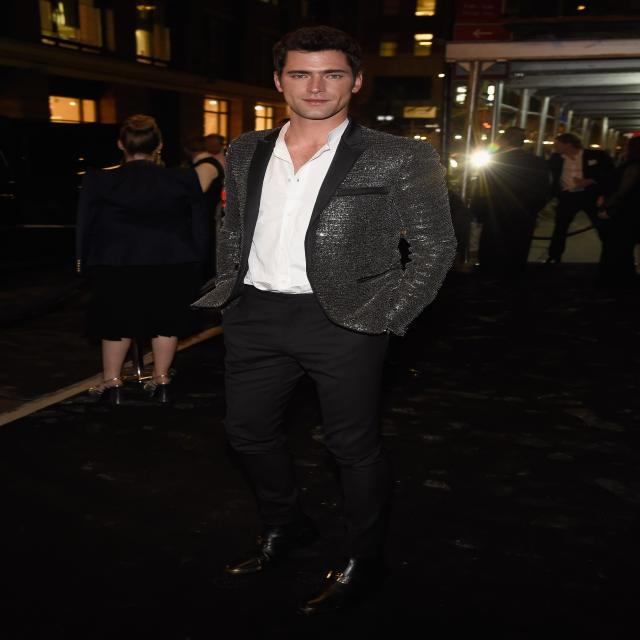mobile_phonerotation: (190, 24, 460, 616)
